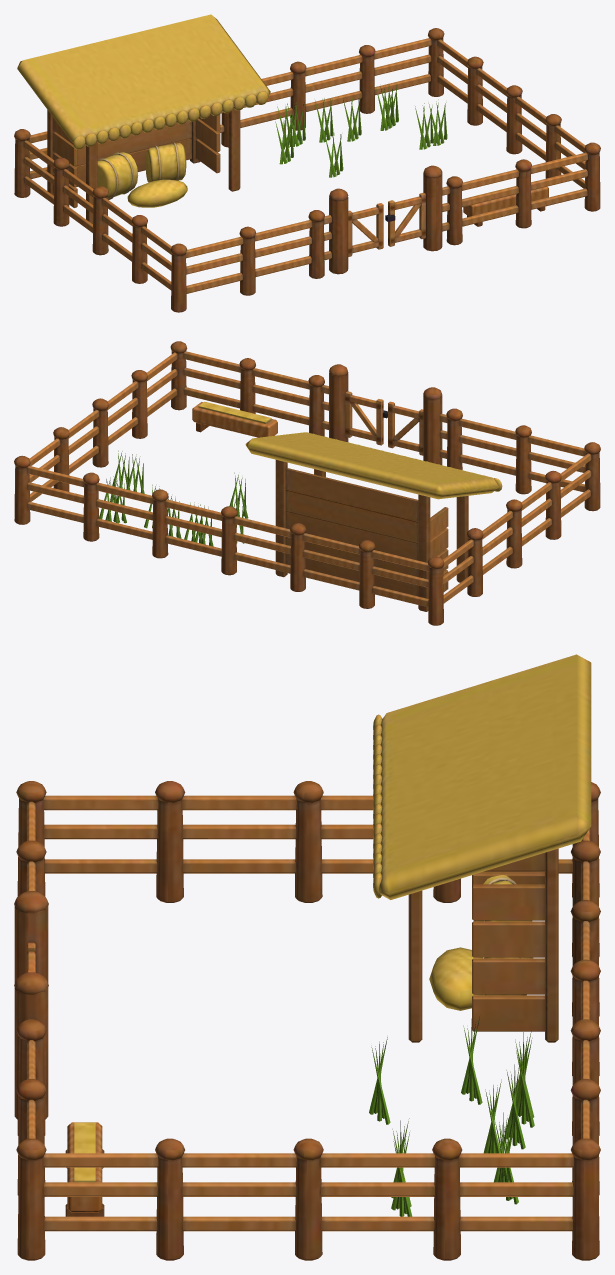
The model's file is ostrich_ranch.glb.
The picture shows the model from 3 angles, top to bottom: view 1: azimuth 30°, elevation 25°; view 2: azimuth 150°, elevation 25°; view 3: azimuth 270°, elevation 25°; orthographic projection. The views are drawn at different scales.
Parts seen in each view (by area): view 1: ostrich_ranch, gate1, gate0; view 2: ostrich_ranch, gate1, gate0; view 3: ostrich_ranch.
Boxes of the visible parts, x1,y1,x2,y2 form: ostrich_ranch: (14, 14, 600, 312); gate1: (385, 192, 425, 246); gate0: (348, 203, 383, 256); ostrich_ranch: (14, 341, 600, 625); gate1: (345, 391, 387, 445); gate0: (388, 401, 423, 455); ostrich_ranch: (14, 654, 600, 1260).
Size of the model in its own units: 3 by 0.9714 by 2.01.
1 material, 1 textured.
